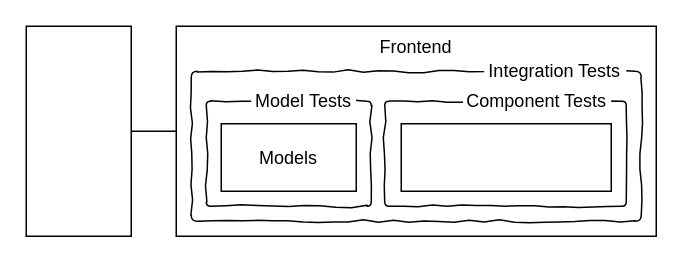
Image size: 683x263. Some labels were removed from this diagram. The centre of each missing label's shape, as x and y in pixels:
"Backend" goes at point (78, 130).
"Components (Controllers + Views)" goes at point (505, 156).
